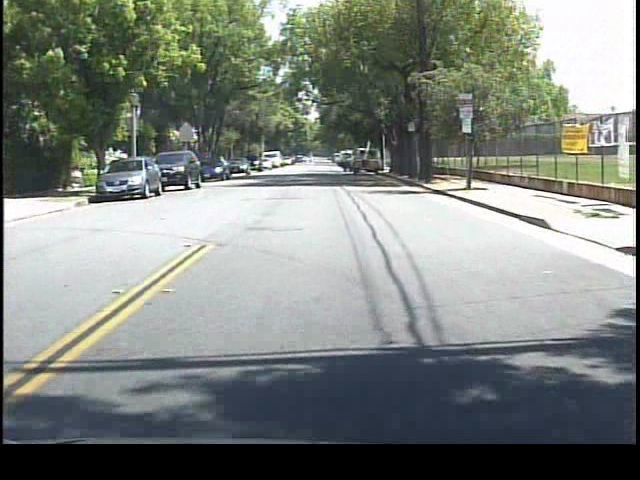person: (337, 150, 353, 175)
